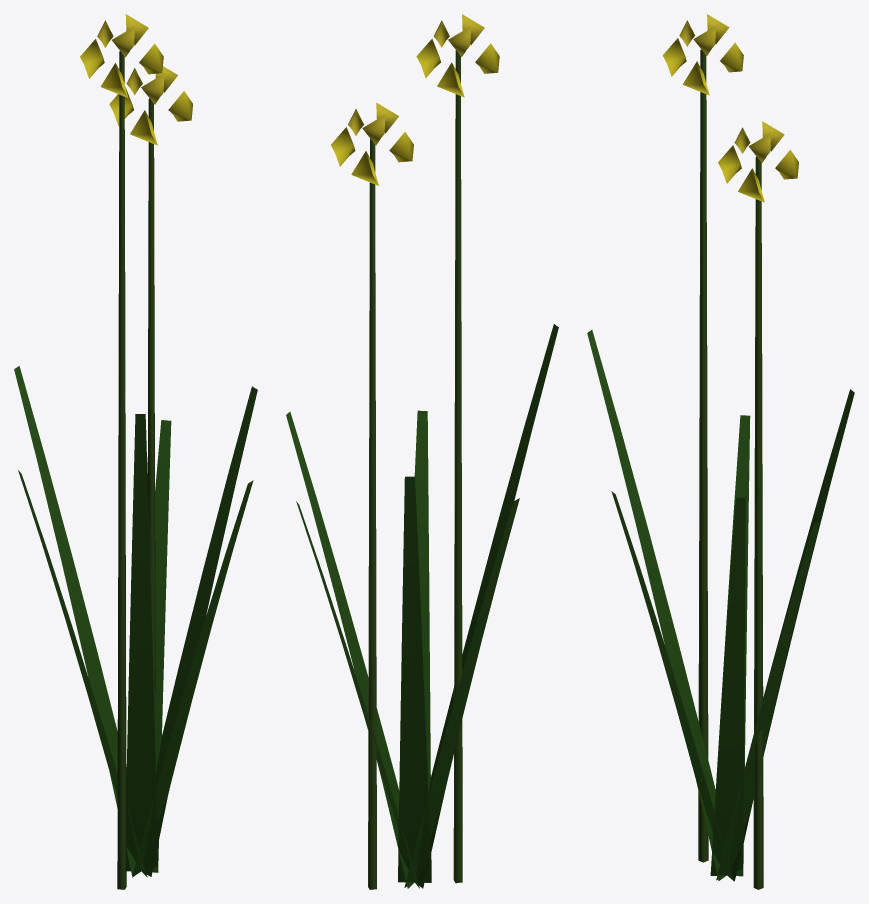
The model's file is Wetland_YellowIris.glb.
The picture shows the model from 3 angles, left to right: view 1: azimuth 30°, elevation 25°; view 2: azimuth 150°, elevation 25°; view 3: azimuth 270°, elevation 25°; orthographic projection. The views are drawn at different scales.
Parts seen in each view (by area): view 1: Wetland_YellowIris; view 2: Wetland_YellowIris; view 3: Wetland_YellowIris.
Boxes of the visible parts, <box> form: Wetland_YellowIris: <box>14,14,257,889</box>; Wetland_YellowIris: <box>286,14,558,889</box>; Wetland_YellowIris: <box>587,14,854,889</box>.
Size of the model in its own units: 0.3568 by 1.26 by 0.3651.
